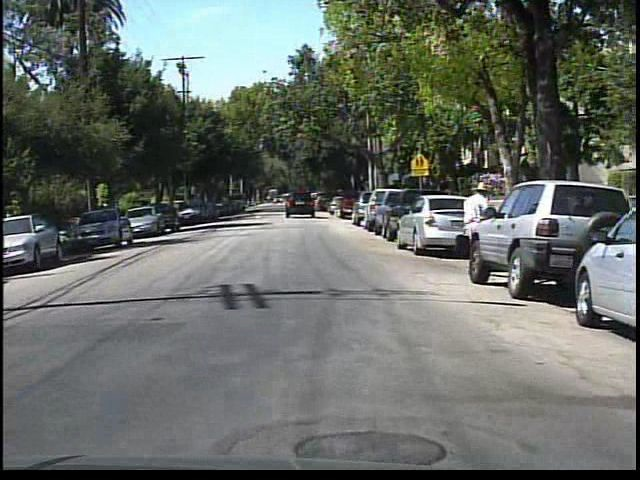person: (451, 180, 494, 281)
